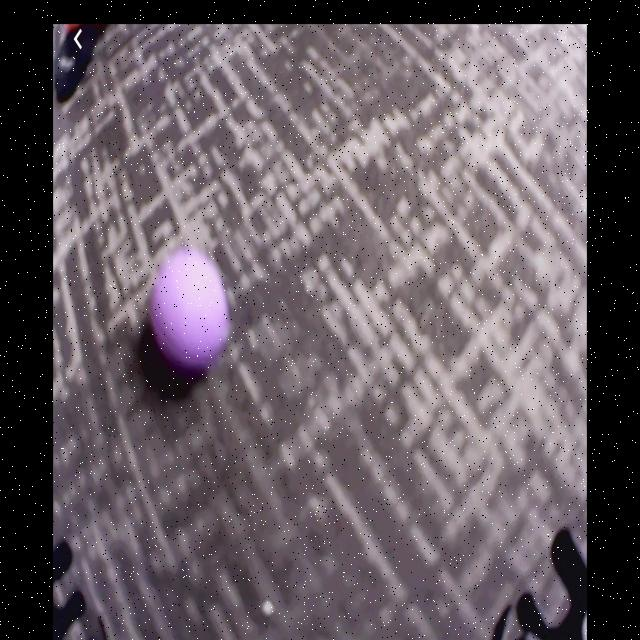ball: (150, 253, 229, 373)
